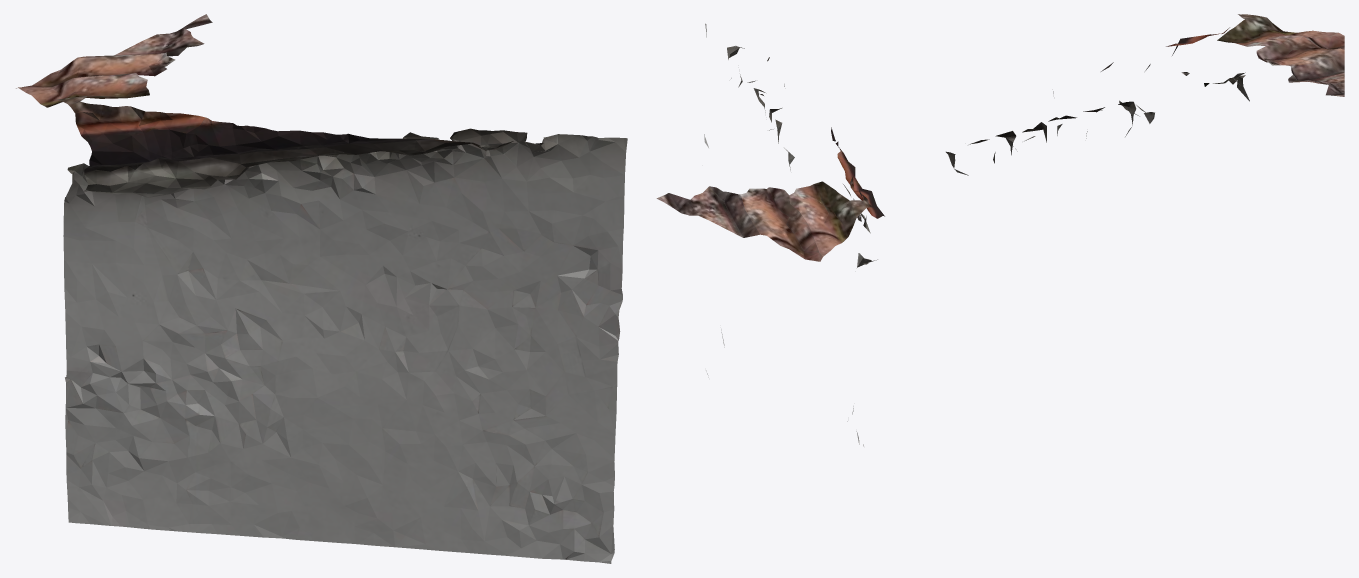
3 renders of one model, left to right at view 1: azimuth 30°, elevation 25°; view 2: azimuth 150°, elevation 25°; view 3: azimuth 270°, elevation 25°, orthographic. The views are drawn at different scales.
Size of the model in its own units: 1.58 by 1.67 by 1.67.
Materials: 4 (4 with a texture image).
